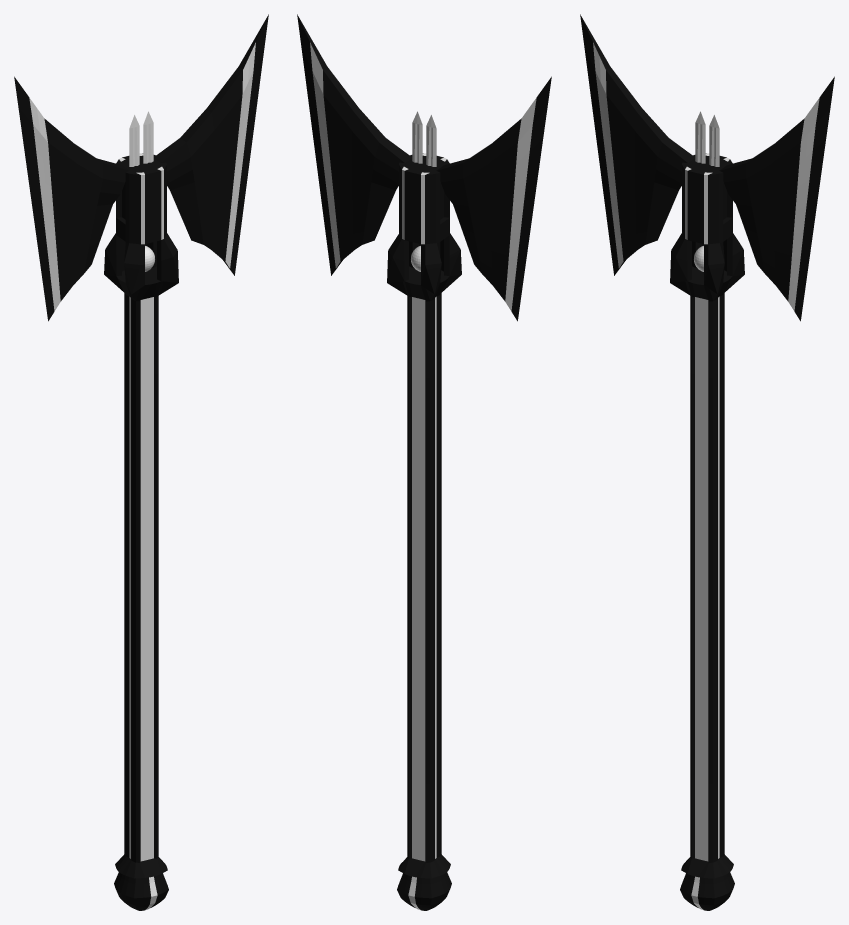
Rendered from Greataxe_mk_3.fbx.
3 renders of one model, left to right at view 1: azimuth 30°, elevation 25°; view 2: azimuth 150°, elevation 25°; view 3: azimuth 330°, elevation 25°, orthographic.
Visible parts, largest first — view 1: Axe_mk_3; view 2: Axe_mk_3; view 3: Axe_mk_3.
Part boxes in pixels (box(x1,y1,x2,y2)): Axe_mk_3: box(14, 14, 268, 910); Axe_mk_3: box(297, 14, 551, 910); Axe_mk_3: box(580, 14, 834, 910).
Size of the model in its own units: 43.16 by 9.09 by 140.
